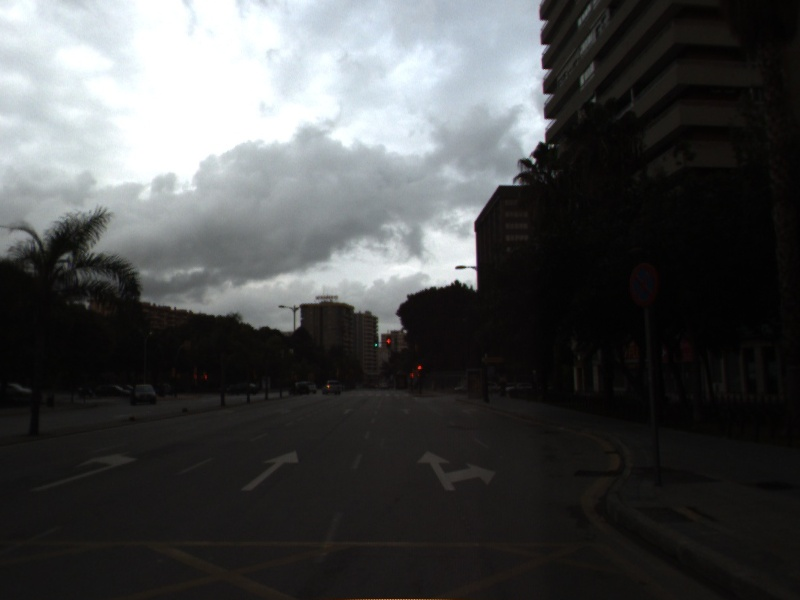LEFT: (28, 450, 140, 493)
STRAIGHT: (239, 448, 300, 493)
STRAIGHT_RIGHT: (415, 448, 499, 493)
